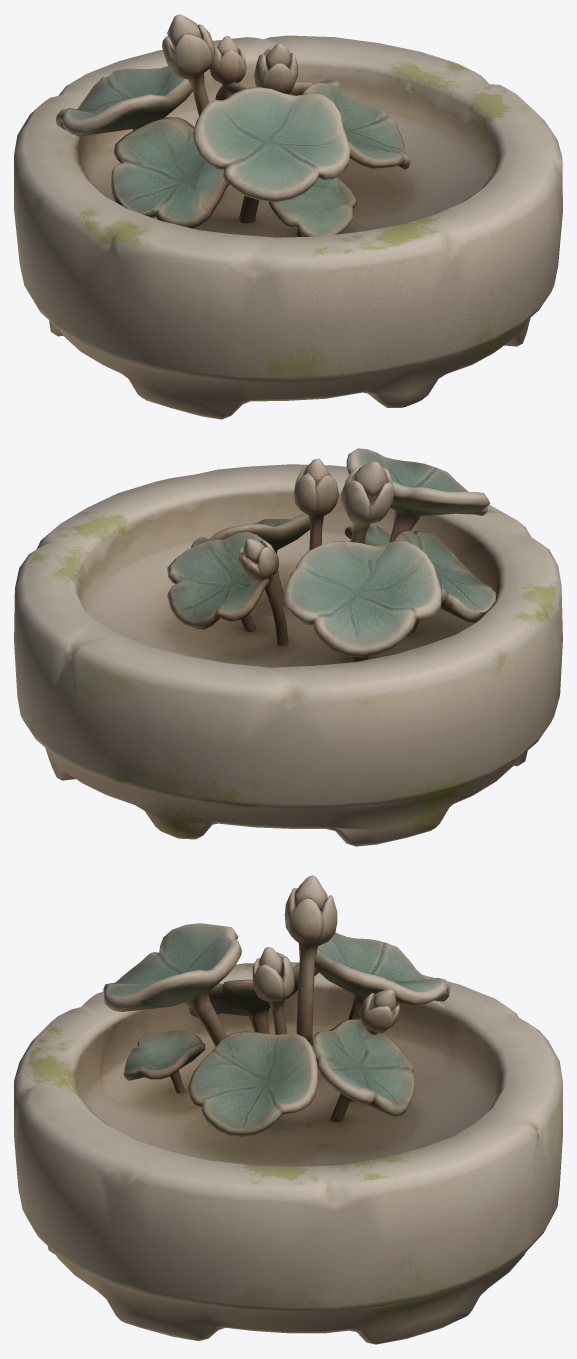
File: tripo_convert_7e1180cd-d94e-4c4d-80bd-6dc678d15ac7.fbx
3 renders of one model, top to bottom at view 1: azimuth 30°, elevation 25°; view 2: azimuth 150°, elevation 25°; view 3: azimuth 270°, elevation 25°, orthographic.
Visible parts, largest first — view 1: tripo_node_7e1180cd; view 2: tripo_node_7e1180cd; view 3: tripo_node_7e1180cd.
Boxes of the visible parts, box(x1,y1,x2,y2) form: tripo_node_7e1180cd: box(14, 14, 562, 419); tripo_node_7e1180cd: box(14, 448, 562, 846); tripo_node_7e1180cd: box(14, 875, 562, 1344).
Size of the model in its own units: 0.998 by 0.6621 by 0.998.
Materials: 1 (1 with a texture image).
